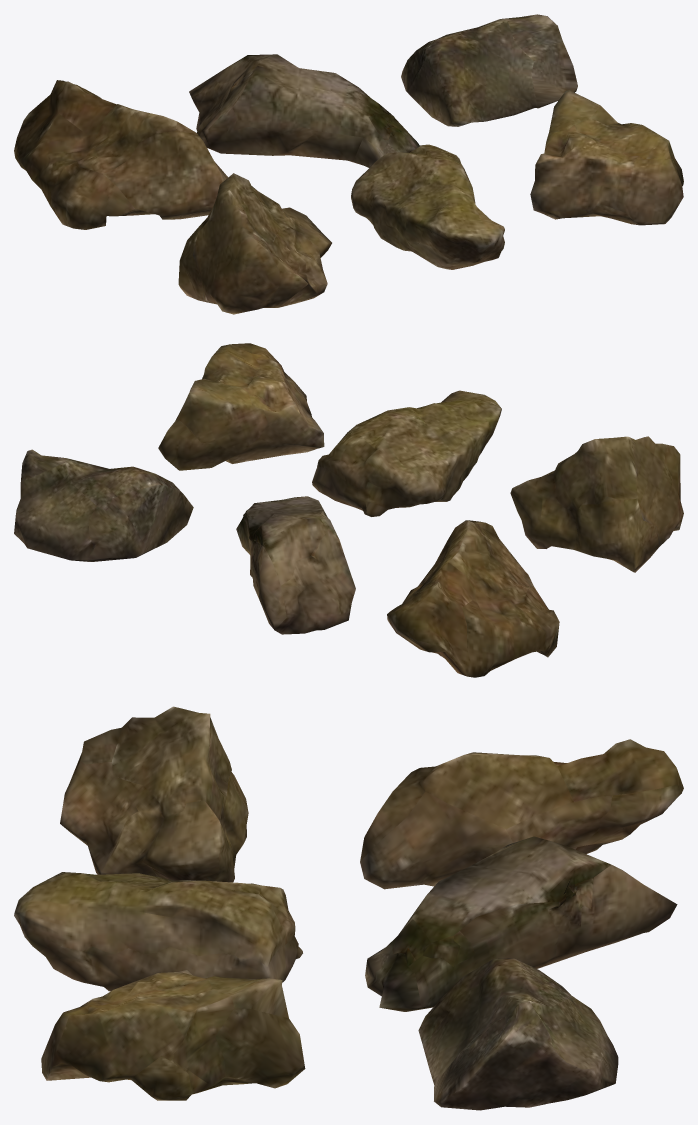
The model's file is rock_moss_set_01_lod1.glb.
The picture shows the model from 3 angles, top to bottom: view 1: azimuth 30°, elevation 25°; view 2: azimuth 150°, elevation 25°; view 3: azimuth 270°, elevation 25°; orthographic projection. The views are drawn at different scales.
Visible parts, largest first — view 1: rock_moss_set_01_rock01, rock_moss_set_01_rock02, rock_moss_set_01_rock06, rock_moss_set_01_rock04, rock_moss_set_01_rock03, rock_moss_set_01_rock05; view 2: rock_moss_set_01_rock04, rock_moss_set_01_rock01, rock_moss_set_01_rock05, rock_moss_set_01_rock03, rock_moss_set_01_rock06, rock_moss_set_01_rock02; view 3: rock_moss_set_01_rock01, rock_moss_set_01_rock02, rock_moss_set_01_rock05, rock_moss_set_01_rock06, rock_moss_set_01_rock04, rock_moss_set_01_rock03.
Boxes of the visible parts, left/top/right/bottom form: rock_moss_set_01_rock01: left=14, top=80, right=227, bottom=229; rock_moss_set_01_rock02: left=189, top=54, right=419, bottom=167; rock_moss_set_01_rock06: left=530, top=90, right=683, bottom=225; rock_moss_set_01_rock04: left=178, top=173, right=331, bottom=314; rock_moss_set_01_rock03: left=401, top=14, right=577, bottom=126; rock_moss_set_01_rock05: left=351, top=144, right=504, bottom=269; rock_moss_set_01_rock04: left=510, top=436, right=683, bottom=572; rock_moss_set_01_rock01: left=387, top=520, right=559, bottom=677; rock_moss_set_01_rock05: left=312, top=390, right=501, bottom=516; rock_moss_set_01_rock03: left=14, top=449, right=193, bottom=561; rock_moss_set_01_rock06: left=158, top=343, right=324, bottom=470; rock_moss_set_01_rock02: left=236, top=496, right=355, bottom=634; rock_moss_set_01_rock01: left=360, top=739, right=683, bottom=889; rock_moss_set_01_rock02: left=365, top=836, right=677, bottom=1011; rock_moss_set_01_rock05: left=14, top=872, right=302, bottom=991; rock_moss_set_01_rock06: left=41, top=970, right=305, bottom=1100; rock_moss_set_01_rock04: left=60, top=706, right=248, bottom=882; rock_moss_set_01_rock03: left=418, top=958, right=618, bottom=1110.
Bounding box in the file's own units: 8 × 1.76 × 6.94.
1 material, 1 textured.
